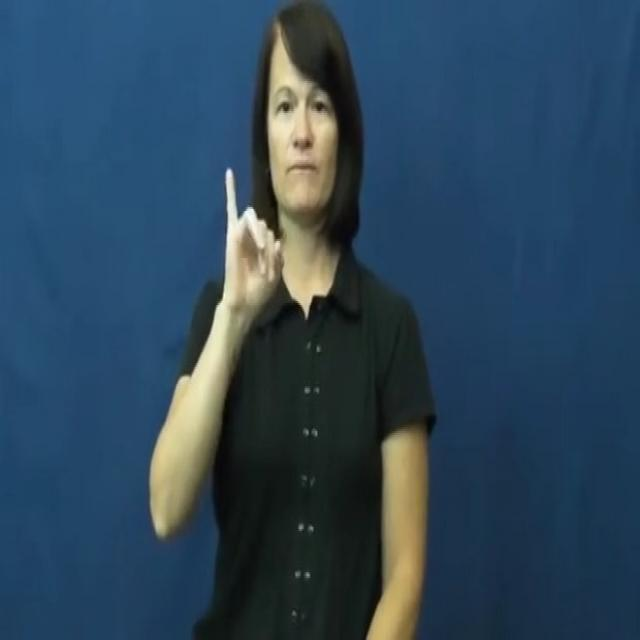refill: (210, 148, 284, 310)
